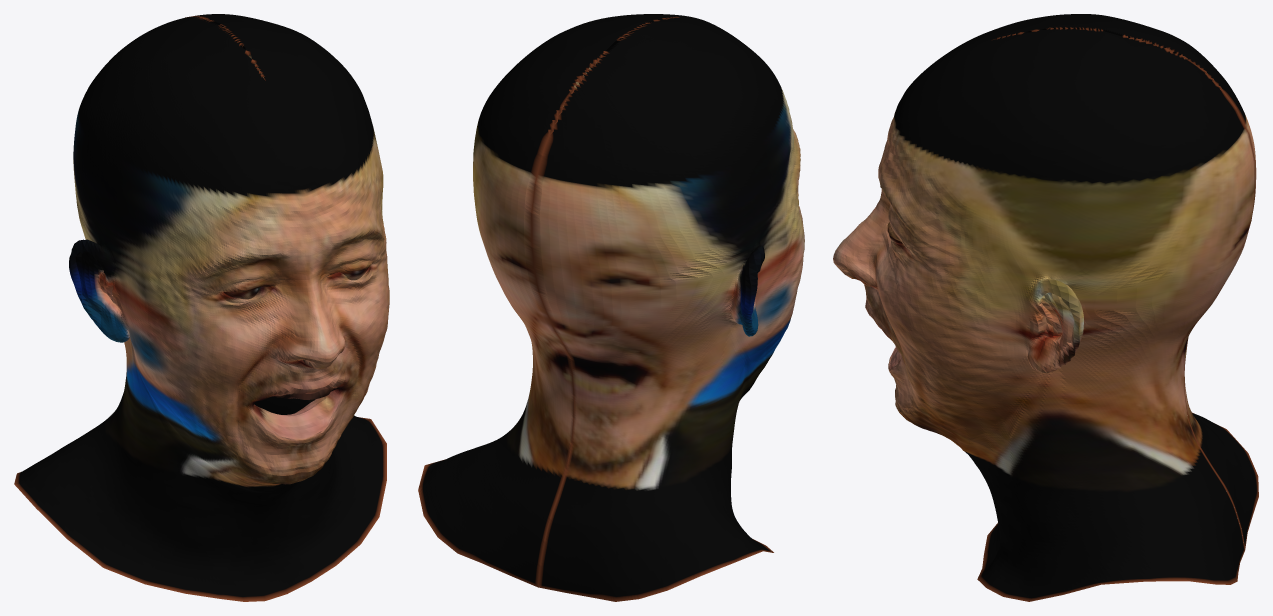
The model's file is mesh_coarse_detail.obj.
3 renders of one model, left to right at view 1: azimuth 30°, elevation 25°; view 2: azimuth 150°, elevation 25°; view 3: azimuth 270°, elevation 25°, orthographic. The views are drawn at different scales.
Size of the model in its own units: 0.2123 by 0.3194 by 0.226.
